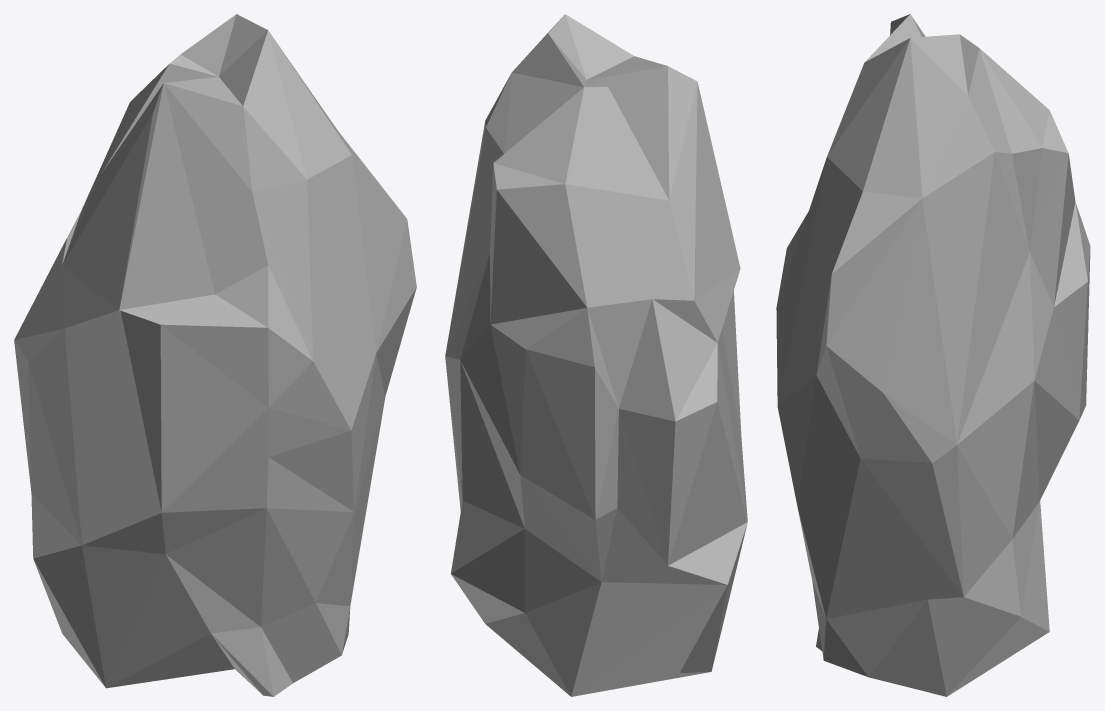
The model's file is Rock2.fbx.
The picture shows the model from 3 angles, left to right: view 1: azimuth 30°, elevation 25°; view 2: azimuth 150°, elevation 25°; view 3: azimuth 270°, elevation 25°; orthographic projection. The views are drawn at different scales.
Visible parts, largest first — view 1: rock2; view 2: rock2; view 3: rock2.
Boxes of the visible parts, x1,y1,x2,y2 form: rock2: (14, 14, 416, 696); rock2: (445, 14, 747, 696); rock2: (776, 14, 1090, 696).
Size of the model in its own units: 9.57 by 18.61 by 8.38.
